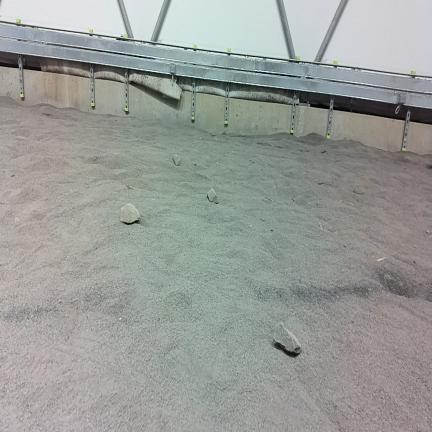Rock: (273, 322, 301, 355), (121, 203, 140, 223), (207, 189, 218, 203), (173, 154, 181, 165), (15, 217, 19, 224)
